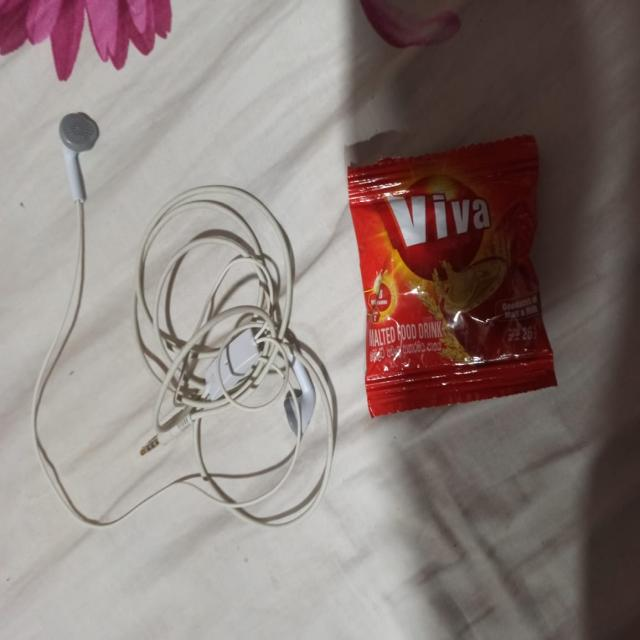Viva Malt: (304, 123, 604, 436)
